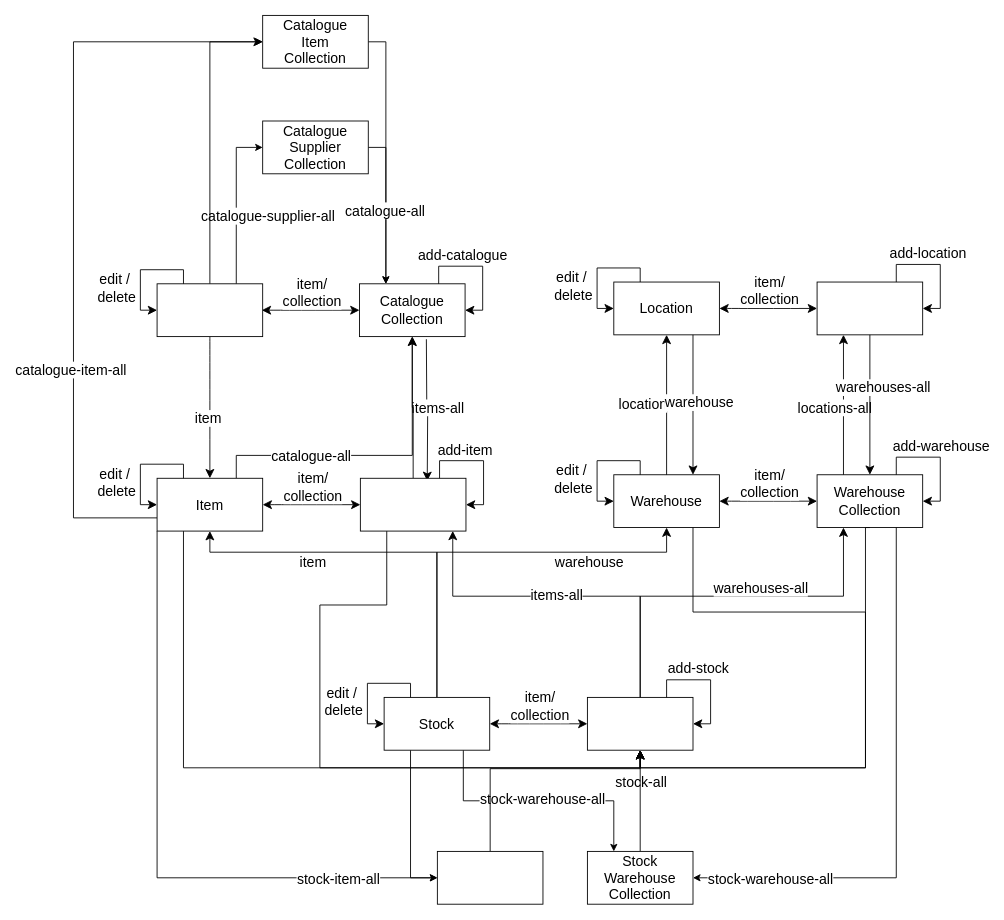
This 1004x920 diagram has some shape labels left out. Each missing label, with the centre of its shape:
Catalogue: [209,310]
Item Collection: [412,504]
Location Collection: [869,308]
Stock Collection: [640,723]
Stock Item Collection: [489,877]
